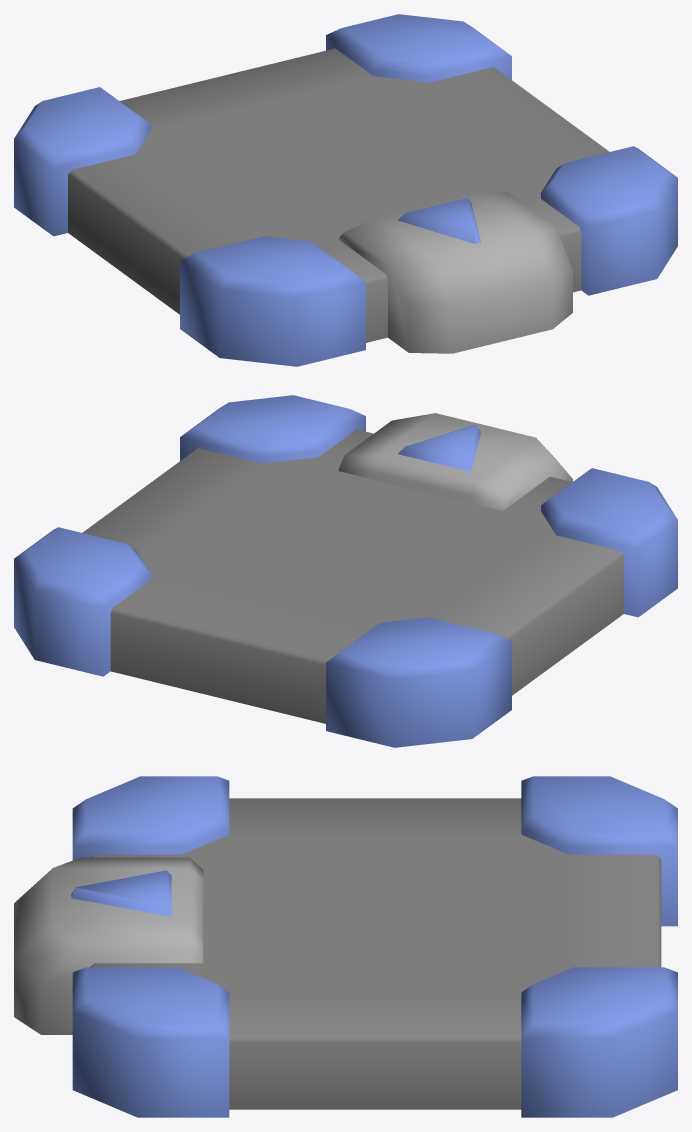
The model's file is BluePieceBasePlate.glb.
The picture shows the model from 3 angles, top to bottom: view 1: azimuth 30°, elevation 25°; view 2: azimuth 150°, elevation 25°; view 3: azimuth 270°, elevation 25°; orthographic projection. The views are drawn at different scales.
Parts seen in each view (by area): view 1: Peice Base - Blue; view 2: Peice Base - Blue; view 3: Peice Base - Blue.
Boxes of the visible parts, <box> form: Peice Base - Blue: <box>14,14,677,366</box>; Peice Base - Blue: <box>14,395,677,747</box>; Peice Base - Blue: <box>14,776,677,1117</box>.
Size of the model in its own units: 0.8785 by 0.1605 by 0.9559.
